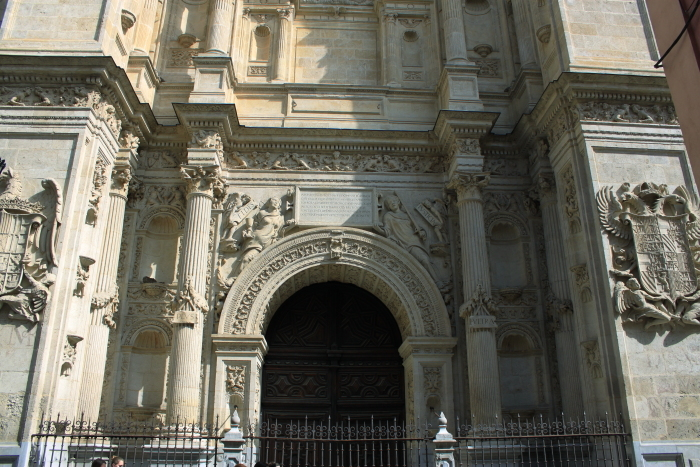arco-medio-punto: (252, 256, 423, 367)
